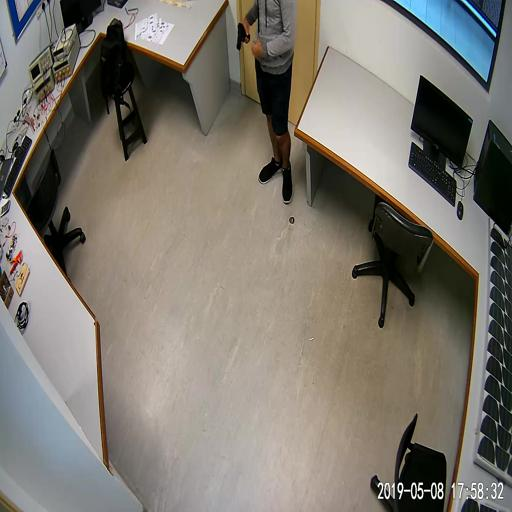pistol: (236, 21, 250, 50)
